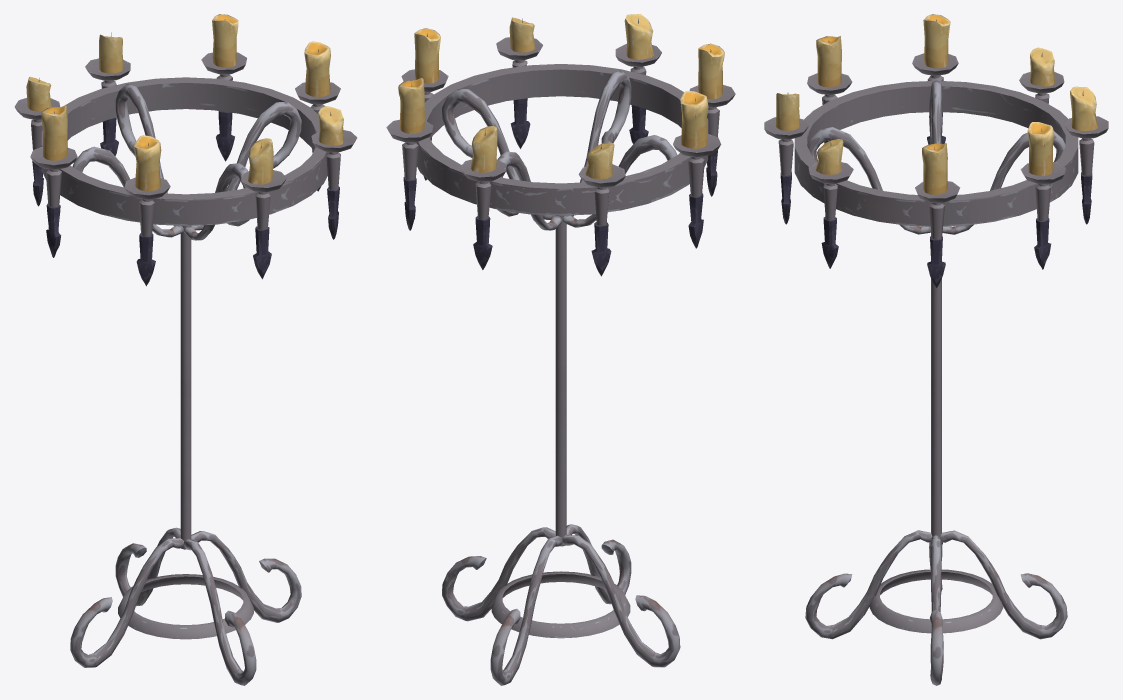
Rendered from CandleStick_Stand.gltf.
3 views of the same model, side by side, from view 1: azimuth 30°, elevation 25°; view 2: azimuth 150°, elevation 25°; view 3: azimuth 270°, elevation 25° (orthographic). The views are drawn at different scales.
Parts seen in each view (by area): view 1: CandleStick_Stand; view 2: CandleStick_Stand; view 3: CandleStick_Stand.
Part boxes in pixels (x1,y1,x2,y2): CandleStick_Stand: (14, 14, 357, 685); CandleStick_Stand: (386, 14, 735, 685); CandleStick_Stand: (764, 14, 1108, 685).
Bounding box in the file's own units: 0.7323 × 1.31 × 0.7313.
Materials: 2 (2 with a texture image).
